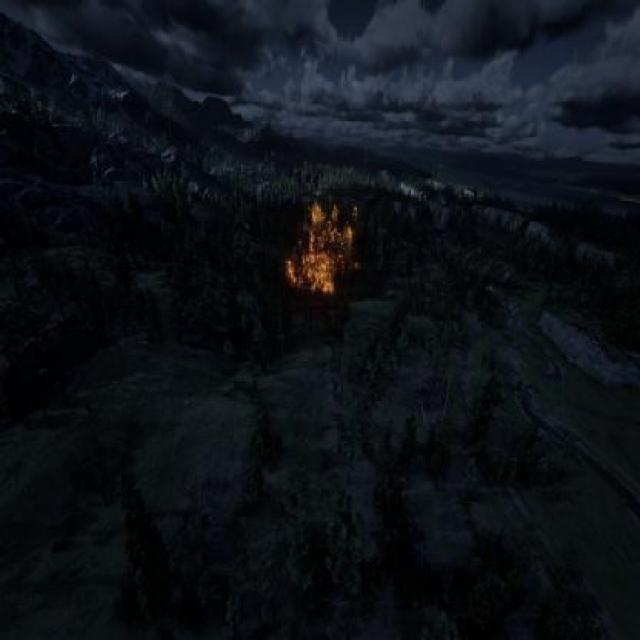Fire: (272, 166, 364, 306)
